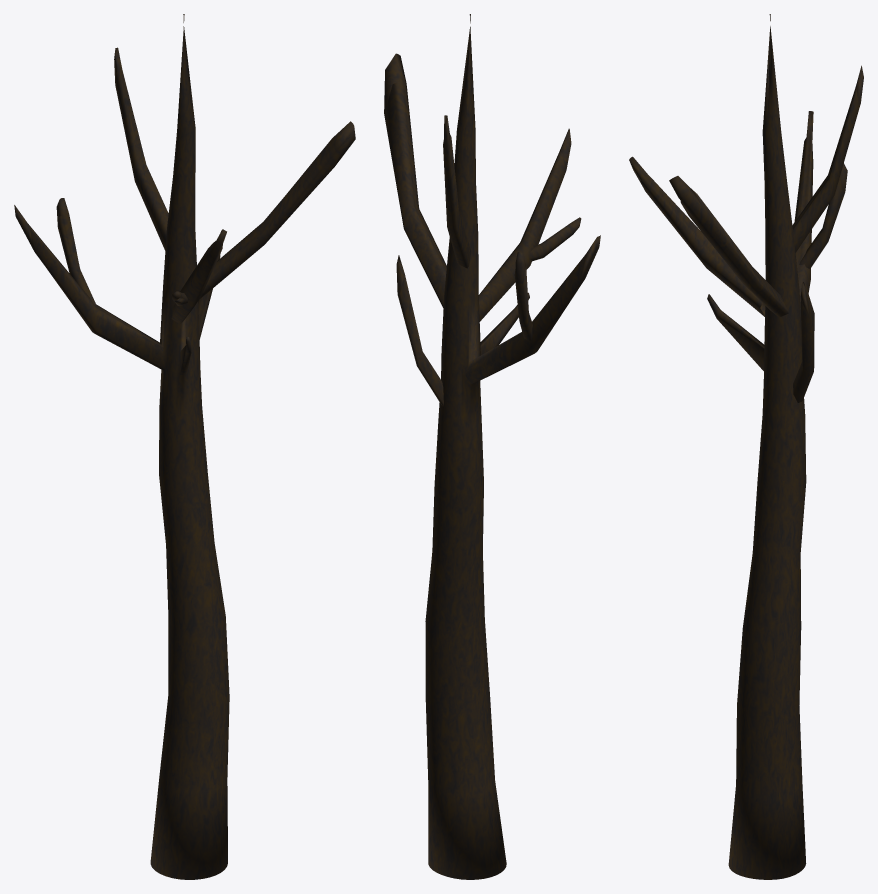
File: DeadTree3.fbx
The picture shows the model from 3 angles, left to right: view 1: azimuth 30°, elevation 25°; view 2: azimuth 150°, elevation 25°; view 3: azimuth 270°, elevation 25°; orthographic projection.
Parts seen in each view (by area): view 1: DeadTree3; view 2: DeadTree3; view 3: DeadTree3.
Part boxes in pixels (x1,y1,x2,y2): DeadTree3: (14, 14, 355, 879); DeadTree3: (384, 14, 600, 879); DeadTree3: (629, 14, 863, 879).
Bounding box in the file's own units: 214 × 628 × 157.
